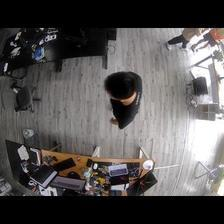normal: (105, 70, 143, 128)
